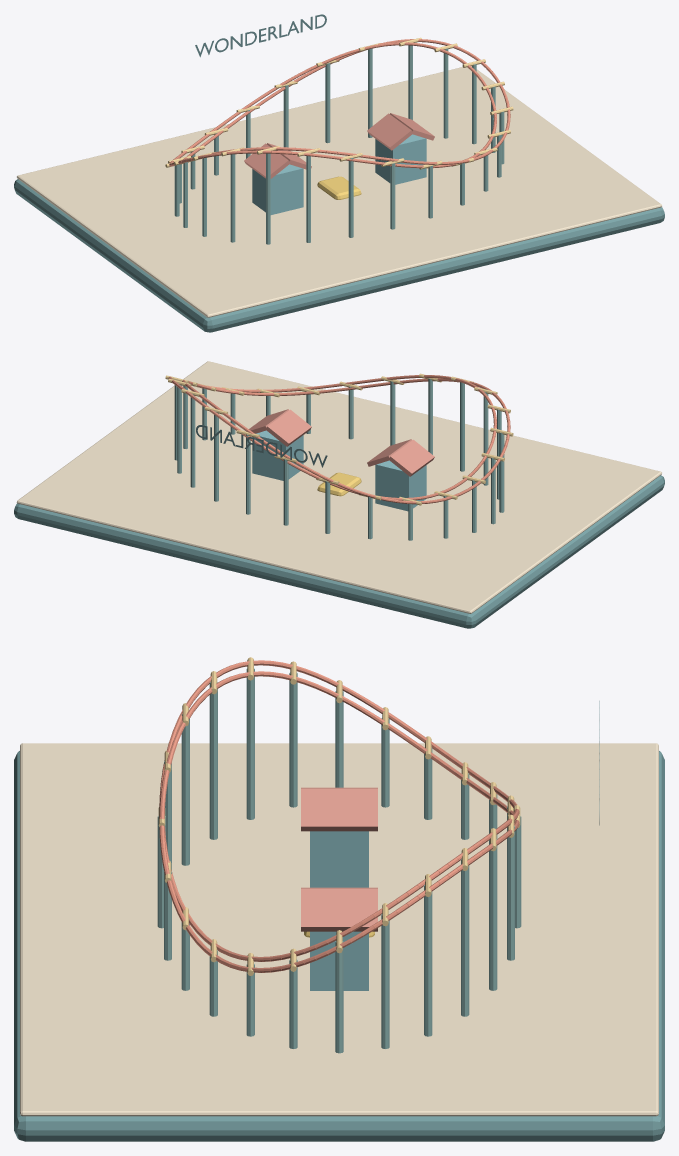
The model's file is coaster.glb.
3 views of the same model, one above another, from view 1: azimuth 30°, elevation 25°; view 2: azimuth 150°, elevation 25°; view 3: azimuth 270°, elevation 25° (orthographic). The views are drawn at different scales.
Visible parts, largest first — view 1: Paving, Stage base, Ticket kiosk, Ticket kiosk.001, Pitched roof.002, WONDERLAND, Pitched roof, CoasterCar, Track support.014, Track support.002, Track support.005; view 2: Paving, Stage base, Ticket kiosk, Ticket kiosk.001, Pitched roof, Pitched roof.002, WONDERLAND, Track support.003, CoasterCar, Track support.015, Track support.016, Track support.002 (+2 smaller); view 3: Paving, Stage base, Ticket kiosk, Pitched roof.001, Pitched roof.003, Ticket kiosk.001, Track support.003, Track support.015, Track support.014, Track support.002, Track support.004, Track support.016 (+8 smaller).
Boxes of the visible parts, x1=… form: Paving: x1=17, y1=66, x2=661, y2=317; Stage base: x1=14, y1=179, x2=664, y2=332; Ticket kiosk: x1=252, y1=164, x2=303, y2=214; Ticket kiosk.001: x1=375, y1=134, x2=426, y2=184; Pitched roof.002: x1=367, y1=113, x2=412, y2=150; WONDERLAND: x1=195, y1=14, x2=326, y2=57; Pitched roof: x1=244, y1=143, x2=290, y2=178; CoasterCar: x1=317, y1=176, x2=361, y2=199; Track support.014: x1=230, y1=154, x2=235, y2=242; Track support.002: x1=443, y1=48, x2=448, y2=138; Track support.005: x1=325, y1=63, x2=330, y2=143; Paving: x1=16, y1=361, x2=661, y2=613; Stage base: x1=14, y1=475, x2=664, y2=628; Ticket kiosk: x1=375, y1=460, x2=426, y2=511; Ticket kiosk.001: x1=252, y1=430, x2=303, y2=480; Pitched roof: x1=388, y1=439, x2=434, y2=476; Pitched roof.002: x1=266, y1=409, x2=311, y2=446; WONDERLAND: x1=196, y1=425, x2=327, y2=467; Track support.003: x1=190, y1=394, x2=195, y2=487; CoasterCar: x1=317, y1=472, x2=361, y2=496; Track support.015: x1=483, y1=392, x2=488, y2=485; Track support.016: x1=460, y1=382, x2=464, y2=471; Track support.002: x1=177, y1=384, x2=181, y2=473; Paving: x1=20, y1=743, x2=658, y2=1116; Stage base: x1=14, y1=751, x2=664, y2=1141; Ticket kiosk: x1=310, y1=831, x2=368, y2=887; Pitched roof.001: x1=301, y1=789, x2=377, y2=831; Pitched roof.003: x1=301, y1=889, x2=377, y2=931; Ticket kiosk.001: x1=310, y1=931, x2=368, y2=990; Track support.003: x1=461, y1=859, x2=469, y2=1016; Track support.015: x1=209, y1=682, x2=217, y2=839; Track support.014: x1=246, y1=668, x2=254, y2=819; Track support.002: x1=424, y1=885, x2=432, y2=1036; Track support.004: x1=489, y1=839, x2=497, y2=990; Track support.016: x1=181, y1=714, x2=189, y2=865.
Bounding box in the file's own units: 15 × 3.81 × 11.
